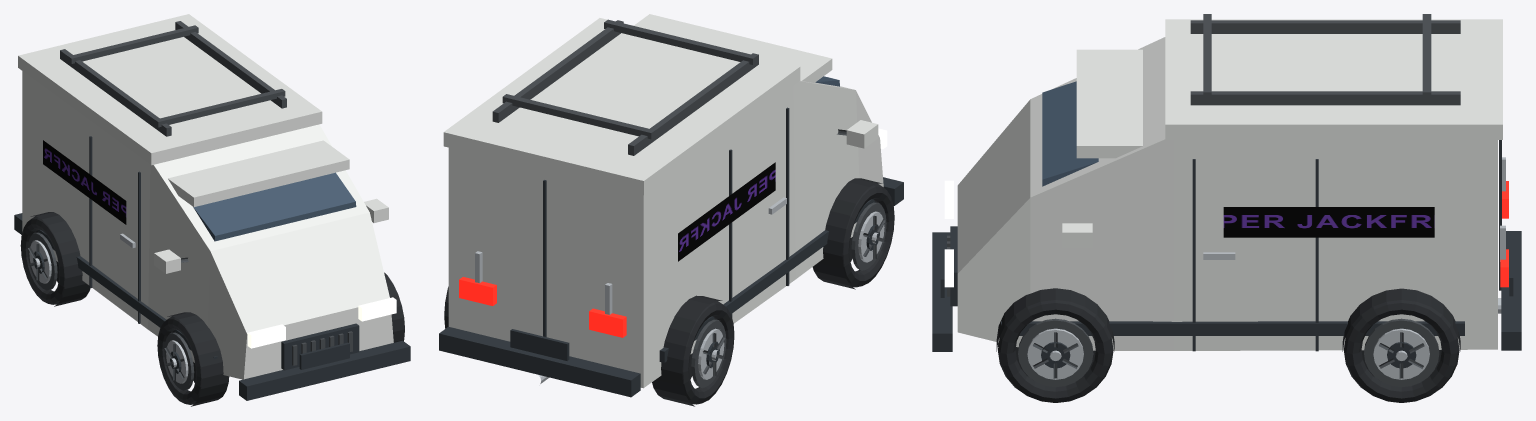
The model's file is car-van.glb.
The picture shows the model from 3 angles, left to right: view 1: azimuth 30°, elevation 25°; view 2: azimuth 150°, elevation 25°; view 3: azimuth 270°, elevation 25°; orthographic projection. The views are drawn at different scales.
Visible parts, largest first — view 1: body-detail, wheel-front-left, wheel-back-left, wheel-front-right; view 2: body-detail, wheel-back-left, wheel-front-left; view 3: body-detail, wheel-front-right, wheel-back-right.
Part boxes in pixels (left/top/right/bottom): body-detail: left=14, top=14, right=410, bottom=400; wheel-front-left: left=157, top=312, right=229, bottom=406; wheel-back-left: left=20, top=212, right=90, bottom=306; wheel-front-right: left=384, top=272, right=404, bottom=342; body-detail: left=439, top=14, right=903, bottom=397; wheel-back-left: left=652, top=295, right=734, bottom=406; wheel-front-left: left=812, top=178, right=894, bottom=289; body-detail: left=932, top=14, right=1521, bottom=351; wheel-front-right: left=996, top=288, right=1114, bottom=402; wheel-back-right: left=1342, top=288, right=1460, bottom=402.
Bounding box in the file's own units: 1.93 × 1.9 × 3.49.
10 materials, 1 textured.
